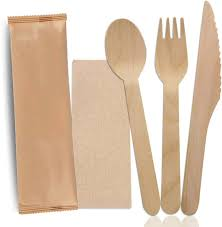Wooden Utensils: (105, 7, 220, 202)
